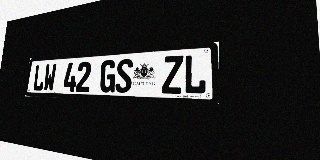2: (76, 61, 92, 92)
4: (63, 62, 78, 92)
G: (99, 60, 117, 93)
L: (183, 54, 207, 94), (32, 64, 46, 91)
S: (115, 58, 133, 93)
W: (43, 63, 57, 91)
Z: (162, 55, 183, 94)
